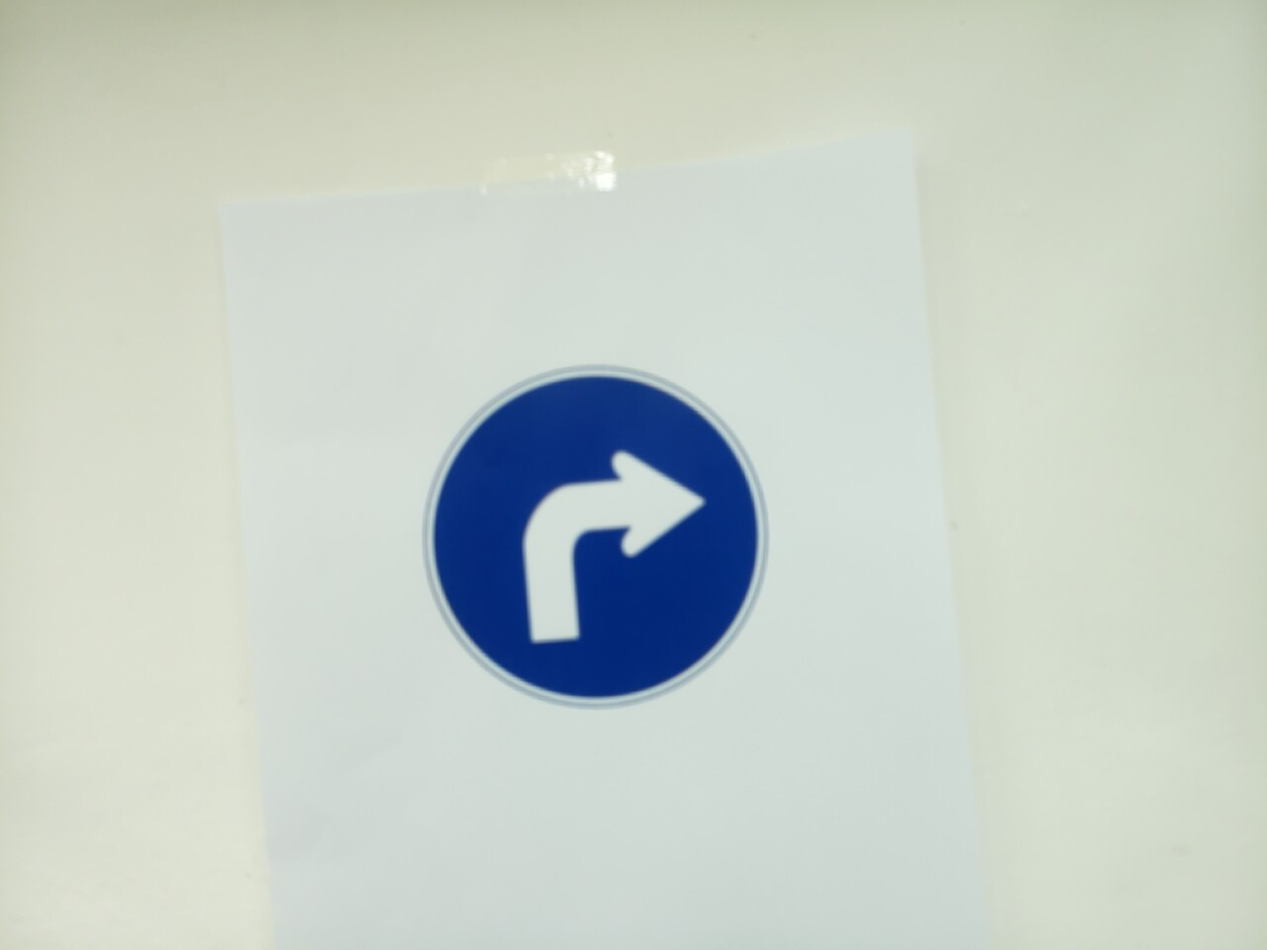right_turn: (424, 366, 768, 708)
